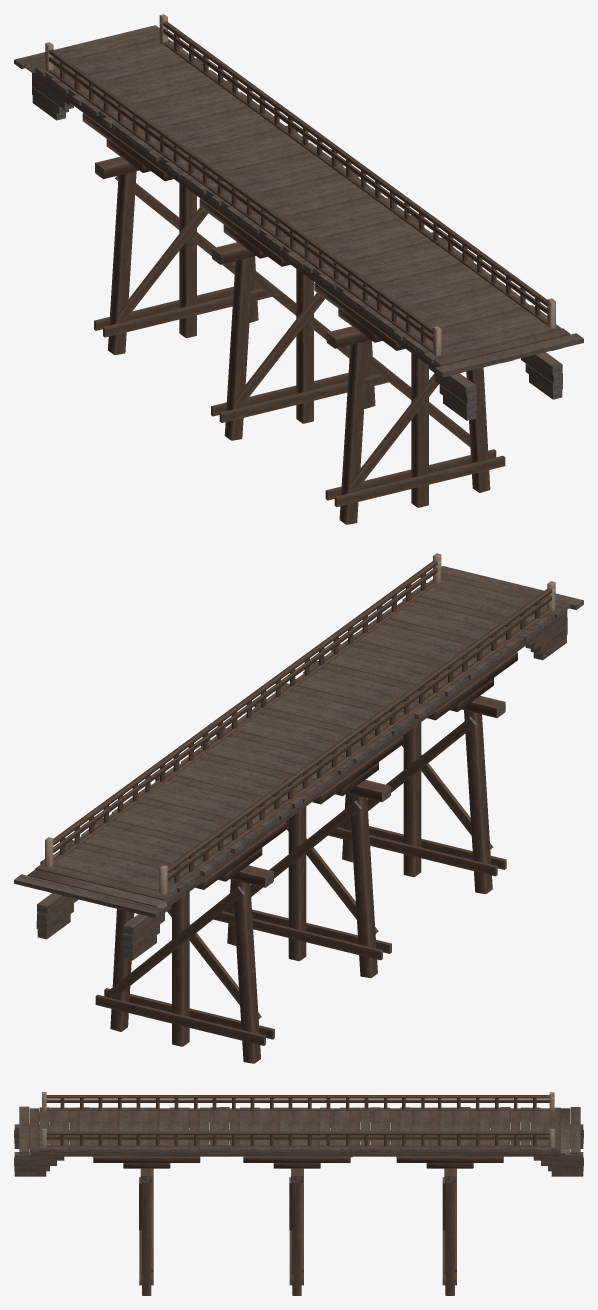
Rendered from jov_bridge_wood02.fbx.
3 views of the same model, one above another, from view 1: azimuth 30°, elevation 25°; view 2: azimuth 150°, elevation 25°; view 3: azimuth 270°, elevation 25° (orthographic). The views are drawn at different scales.
Visible parts, largest first — view 1: jov_bridge_wood02; view 2: jov_bridge_wood02; view 3: jov_bridge_wood02.
Boxes of the visible parts, bbox=[...] form: jov_bridge_wood02: bbox=[14, 14, 583, 524]; jov_bridge_wood02: bbox=[14, 553, 583, 1063]; jov_bridge_wood02: bbox=[14, 1092, 583, 1295].
Size of the model in its own units: 706 by 994 by 3159.
